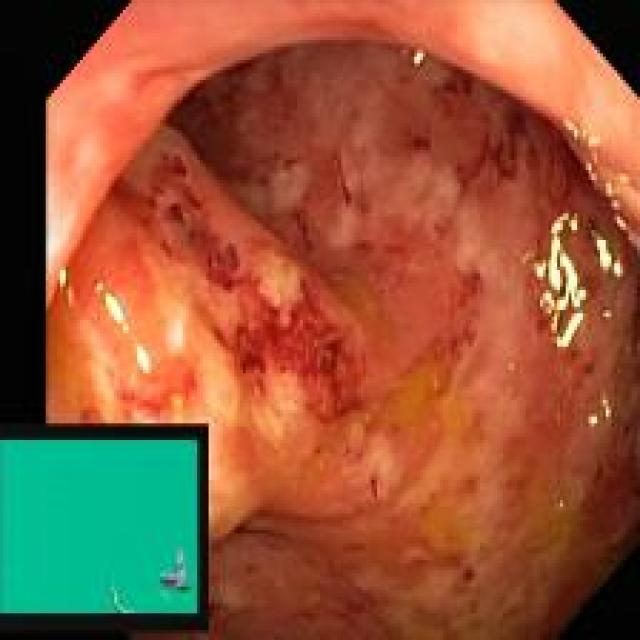ulcerative-colitis-grade-2-3: (49, 42, 638, 639)
